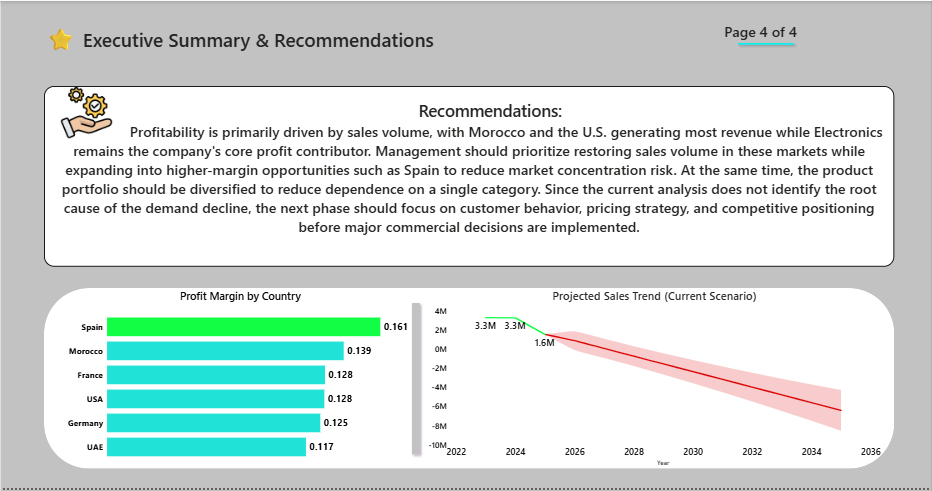

This screenshot's page, from the dashboard's own definition file:
{"tool":"powerbi","page":{"name":"Page 4","canvas":[2100,1100],"ordinal":3},"visuals":[{"type":"textbox","box":[97.1,47.4,1323.2,121.9],"z":0},{"type":"textbox","box":[1464,24,504,96],"z":1000},{"type":"shape","box":[96,648,1920,408],"z":2000},{"type":"shape","box":[1656,24,144,144],"z":3000},{"type":"barChart","title":"Profit Margin by Country","fields":{"Y":["SalesFactTable.Margin Profit"],"Category":["Geo_Dim.Country"]},"box":[144,648,792,408],"z":4000},{"type":"textbox","box":[96,192,1920,408],"z":5000},{"type":"image","box":[96,192,192,120],"z":6000},{"type":"lineChart","title":"Projected Sales Trend (Current Scenario)","fields":{"Category":["DateDim.Year"],"Y":["Sum(SalesFactTable.Sales)"]},"box":[960,648,1032,408],"z":7000},{"type":"shape","box":[864,672,144,360],"z":8000}]}

Visuals, with their boxes in screenshot pixels (x1, y1, x2, y2), scaled from the page's 2100x1100 canvas onto the 932x491 screenshot:
textbox: crop(43, 21, 630, 76)
textbox: crop(650, 11, 873, 54)
shape: crop(43, 289, 895, 471)
shape: crop(735, 11, 799, 75)
"Profit Margin by Country" barChart: crop(64, 289, 415, 471)
textbox: crop(43, 86, 895, 268)
image: crop(43, 86, 128, 139)
"Projected Sales Trend (Current Scenario)" lineChart: crop(426, 289, 884, 471)
shape: crop(383, 300, 447, 461)
